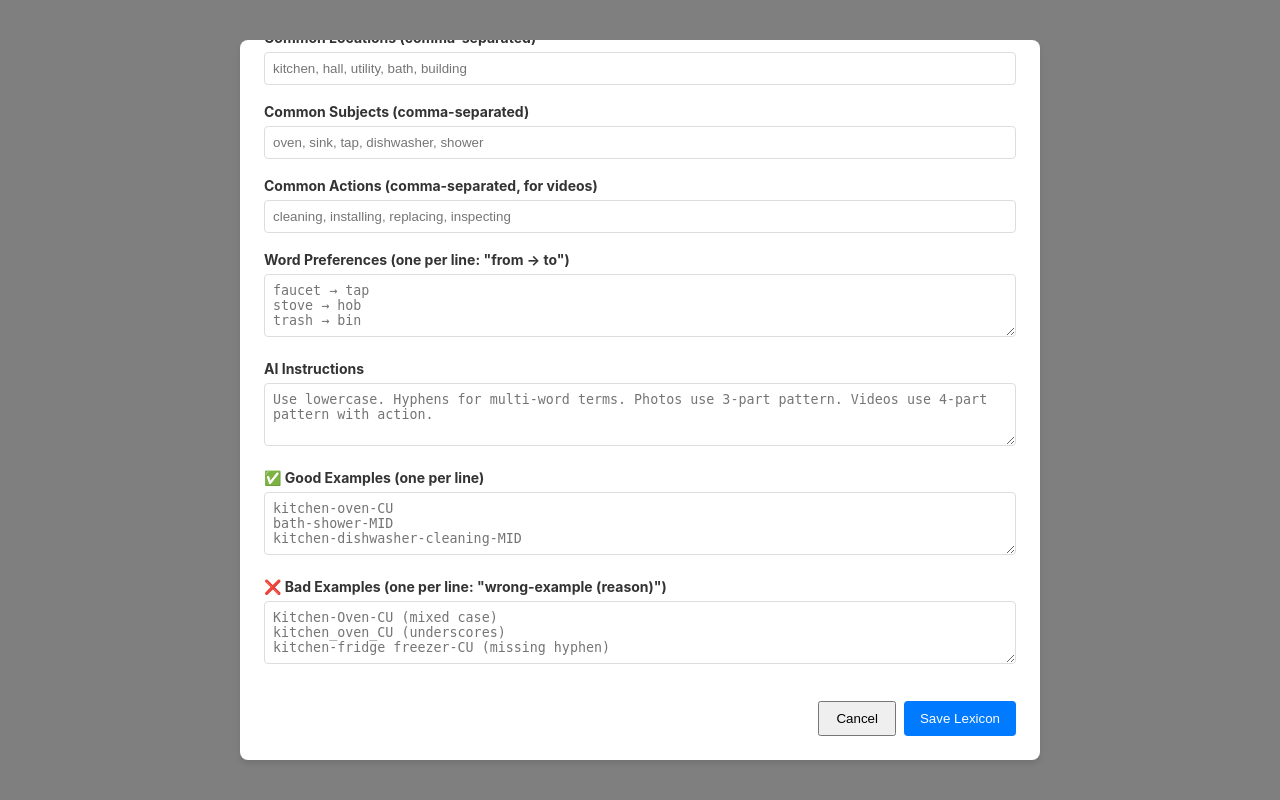
Test case: SettingsModal › shows error message when save fails
(page scrolled)
Click the button "Save Lexicon" at (960, 718), box [904,701,1016,736]
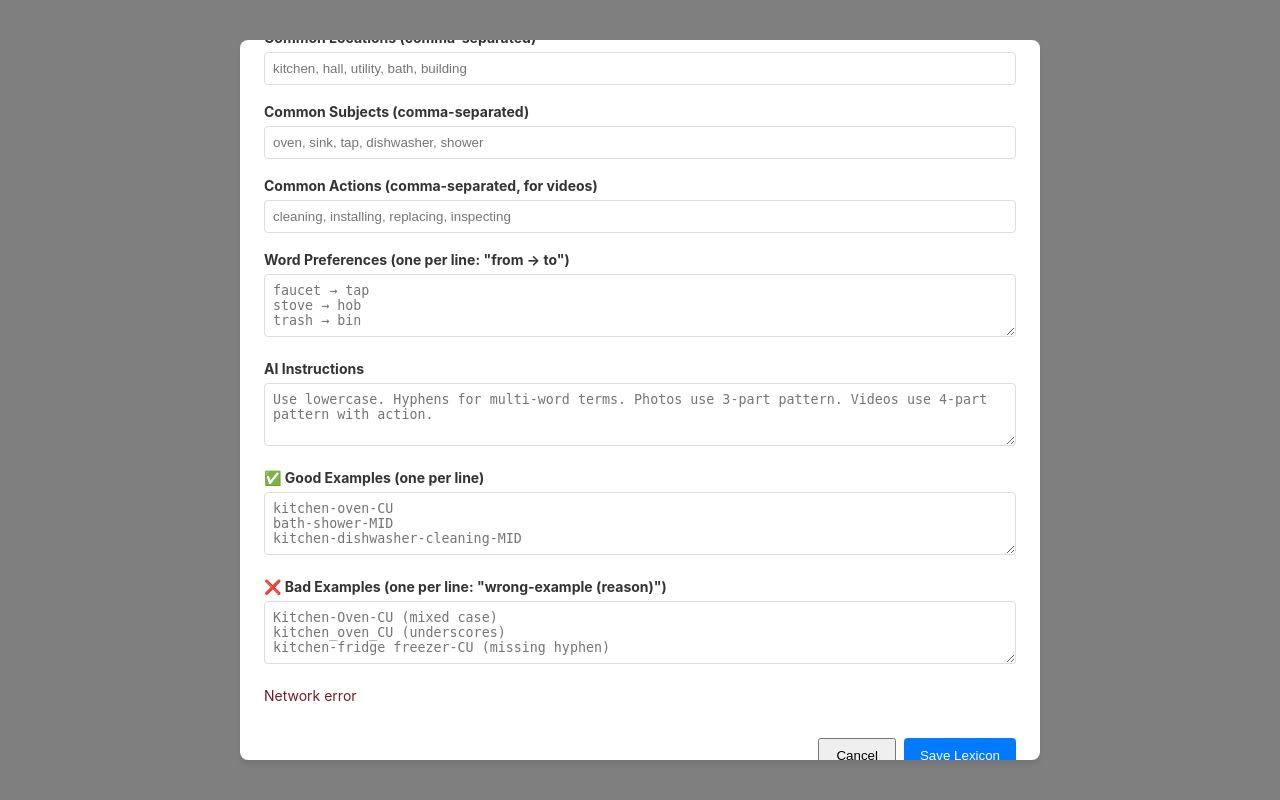
Expected: the text "Network error" is shown, [264,687,357,704]
